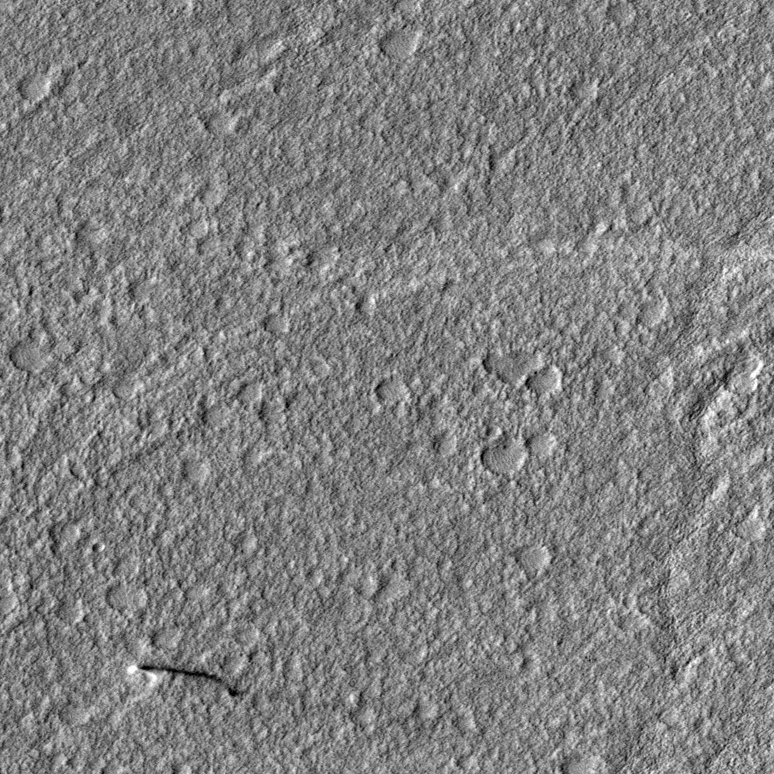dust_devil: (122, 661, 242, 702)
